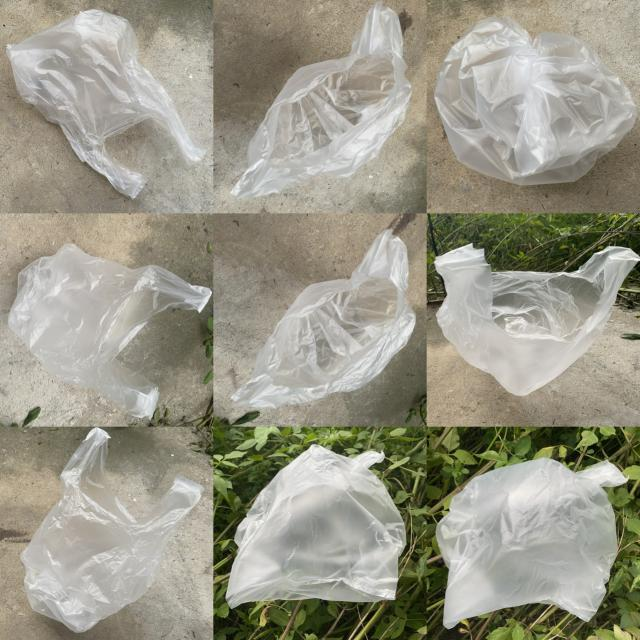Single-layer Plastic: (6, 10, 206, 198), (21, 428, 204, 632), (231, 2, 411, 199), (9, 244, 211, 418), (435, 16, 636, 185), (232, 229, 415, 409), (436, 458, 626, 628), (435, 245, 640, 396), (226, 445, 406, 608)
